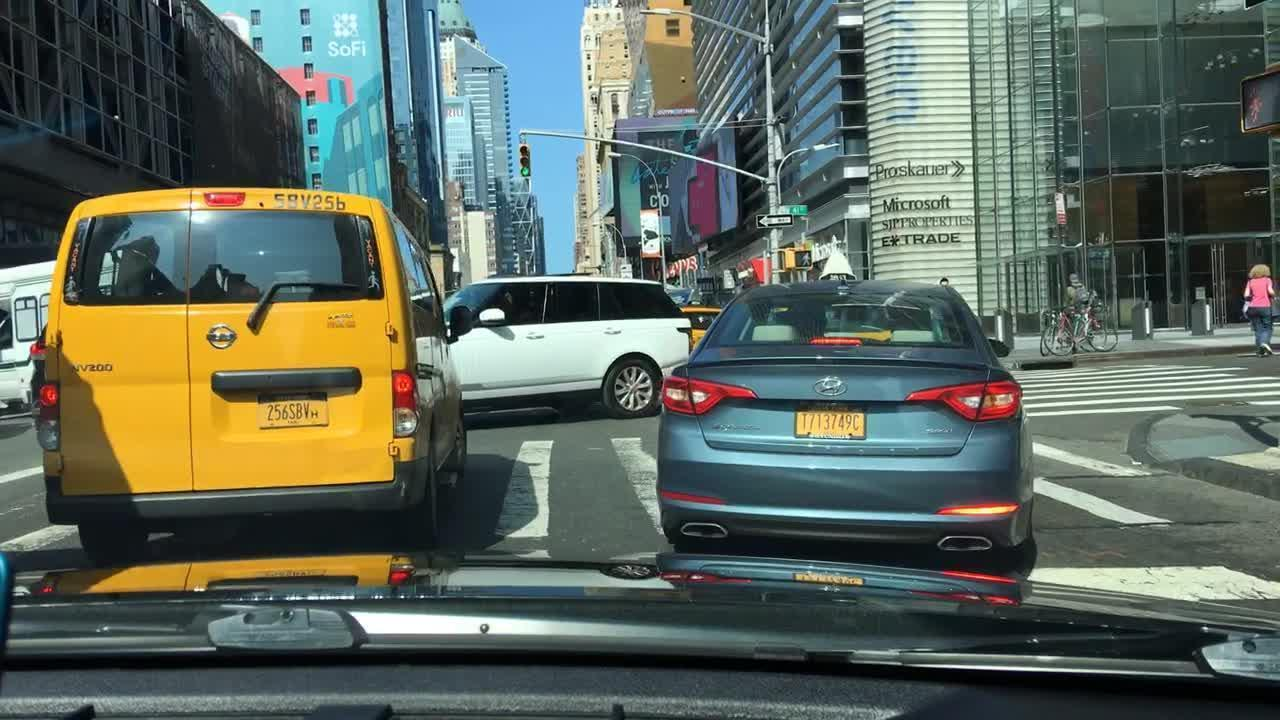Hyundai: (808, 373, 851, 403)
Nissan: (197, 316, 246, 360)
